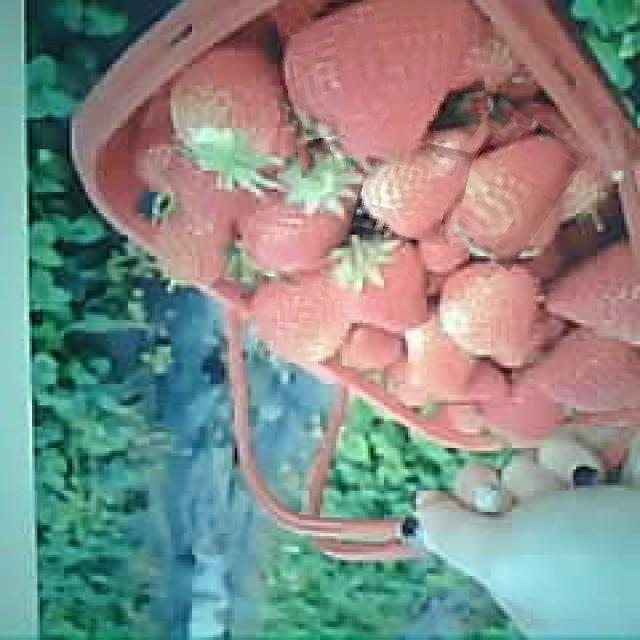strawberry: (282, 0, 489, 172), (437, 106, 574, 263), (356, 136, 468, 243), (249, 272, 361, 366)
